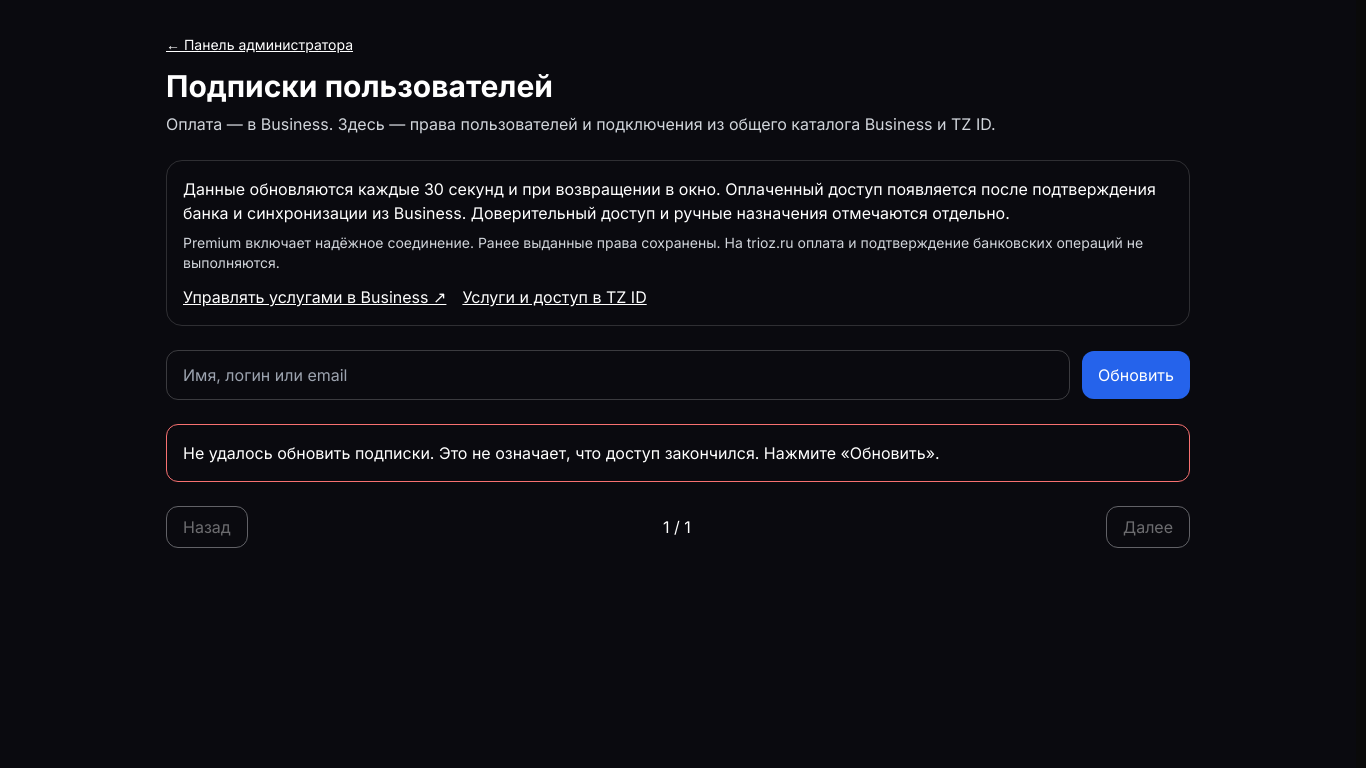
Test: shows failures as unknown rather than absent subscriptions and allows retry
The width and height of the screenshot is (1366, 768).
Check: the message is shown, box [166,424,1190,482]
Click the button "Обновить".
click(1136, 375)  # box [1082,351,1190,399]
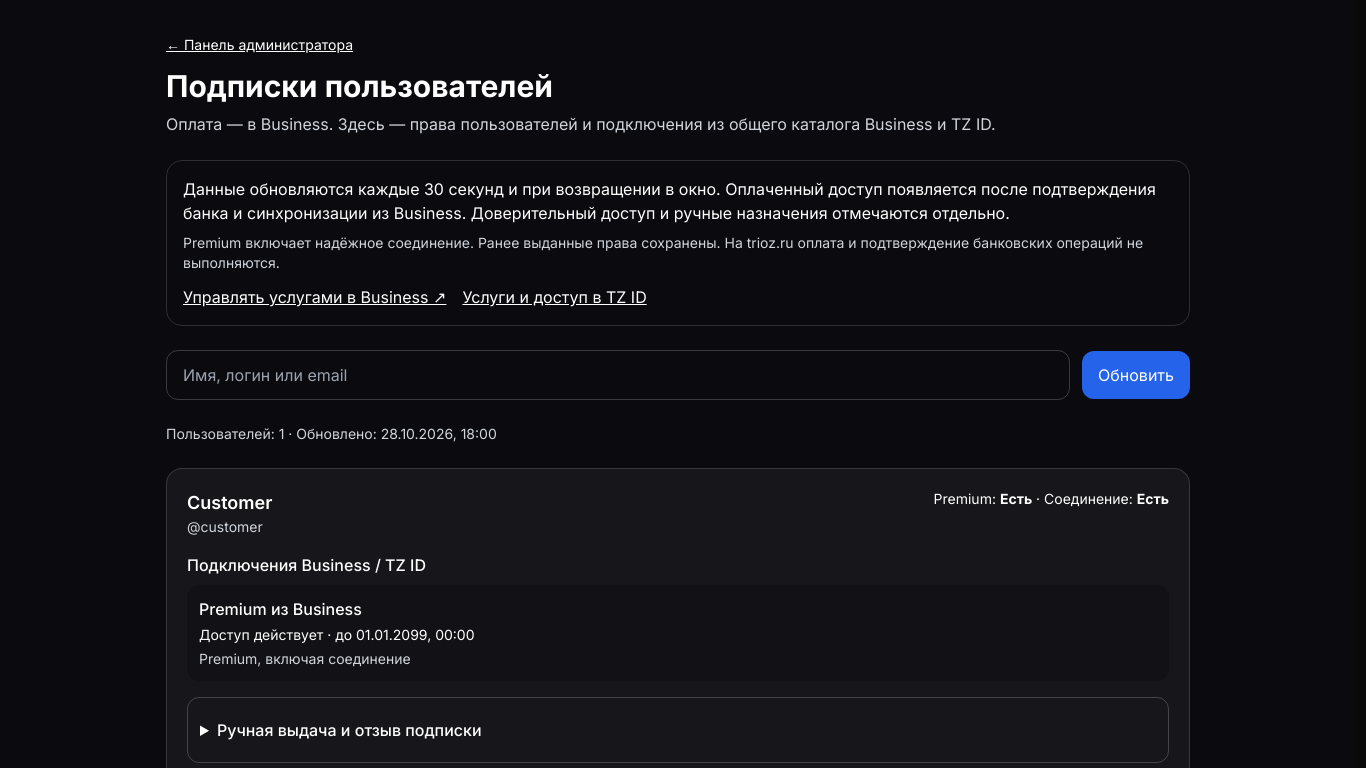
Check: the heading "Customer" is shown, box [187,489,272,517]
